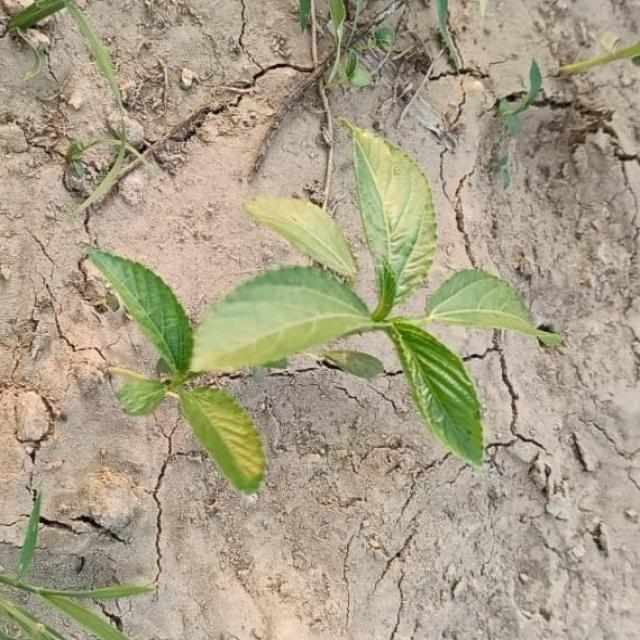plant: (88, 121, 562, 493)
